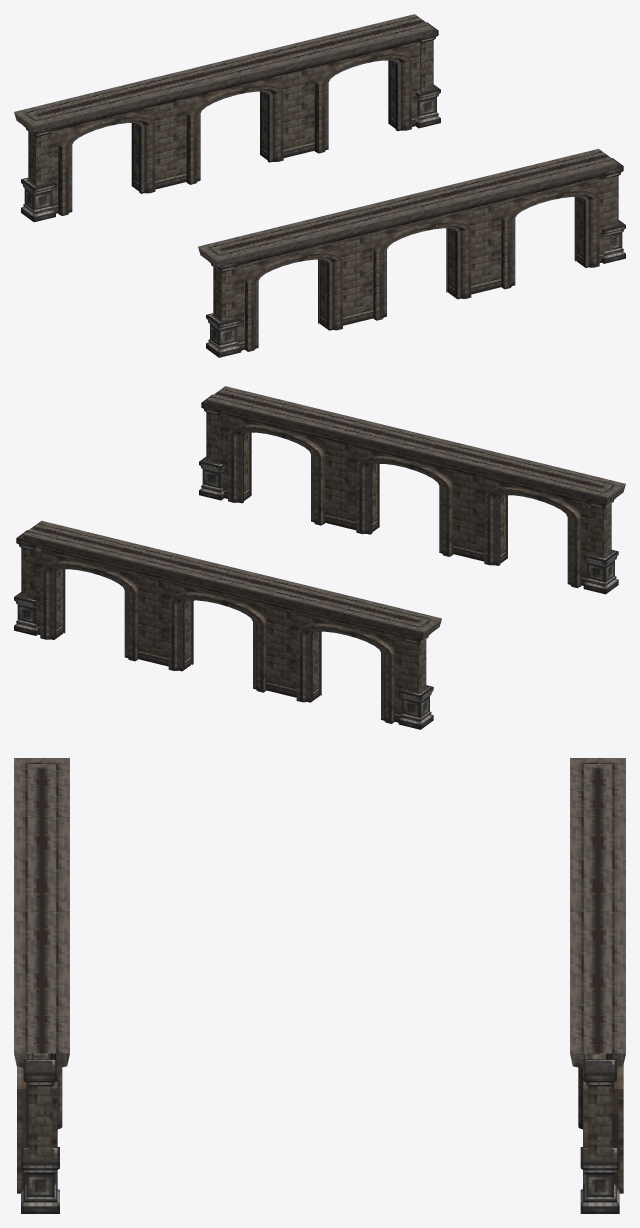
File: EnvBdgMD_Mansion_B_Outdoor_Piller.FBX
The picture shows the model from 3 angles, top to bottom: view 1: azimuth 30°, elevation 25°; view 2: azimuth 150°, elevation 25°; view 3: azimuth 270°, elevation 25°; orthographic projection. The views are drawn at different scales.
Parts seen in each view (by area): view 1: EnvBdgMD_Mansion_B_Outdoor_Piller; view 2: EnvBdgMD_Mansion_B_Outdoor_Piller; view 3: EnvBdgMD_Mansion_B_Outdoor_Piller.
Part boxes in pixels (x1,y1,x2,y2): EnvBdgMD_Mansion_B_Outdoor_Piller: (14, 14, 625, 357); EnvBdgMD_Mansion_B_Outdoor_Piller: (14, 386, 625, 729); EnvBdgMD_Mansion_B_Outdoor_Piller: (14, 758, 625, 1213).
Bounding box in the file's own units: 1285 × 300 × 1094.
Materials: 1 (1 with a texture image).
